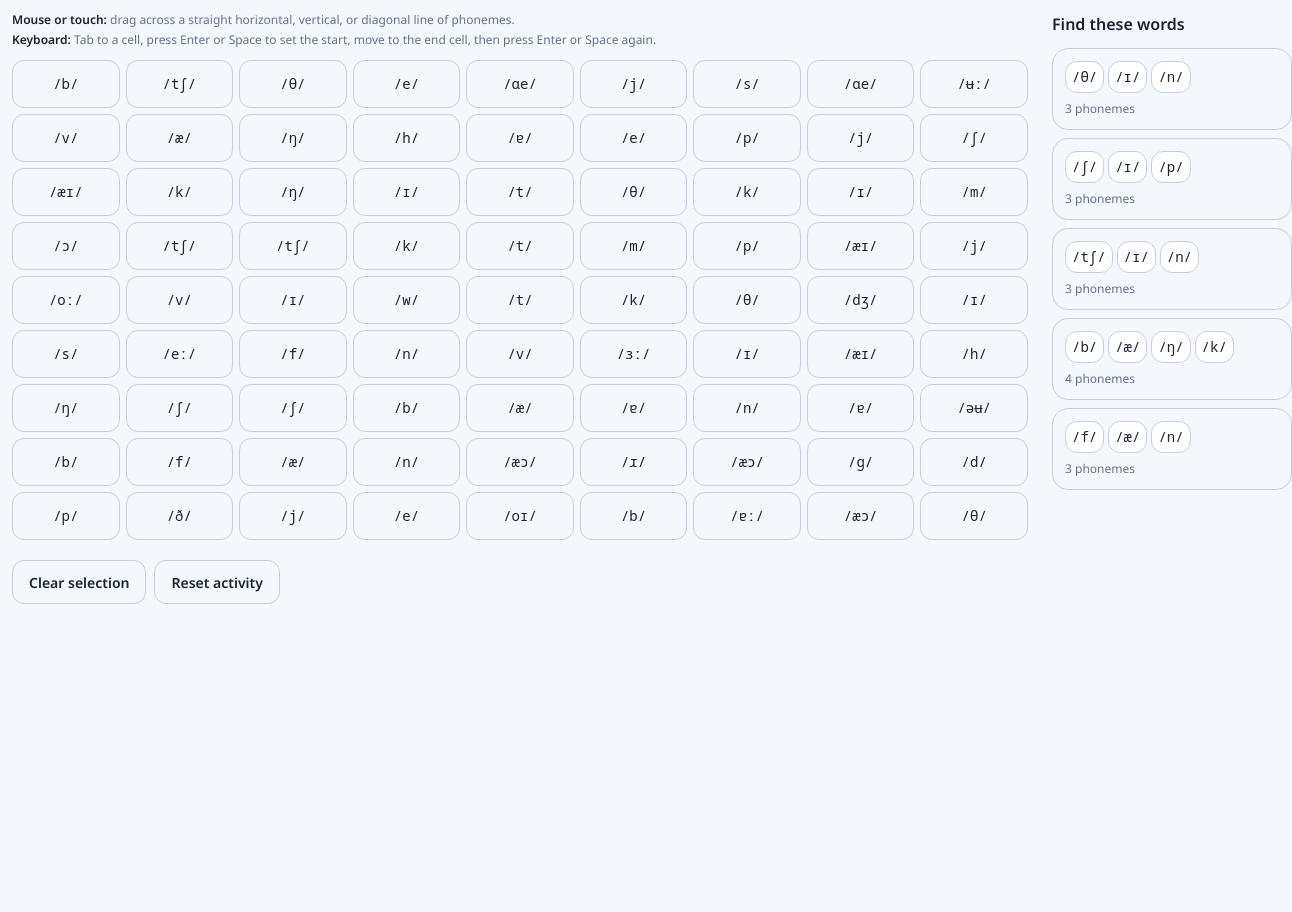
WordSearchGame › supports keyboard start and end selection for matches
The image size is (1292, 912).
Click the 1st button "/b/": x=66, y=84 [12,60,120,108]
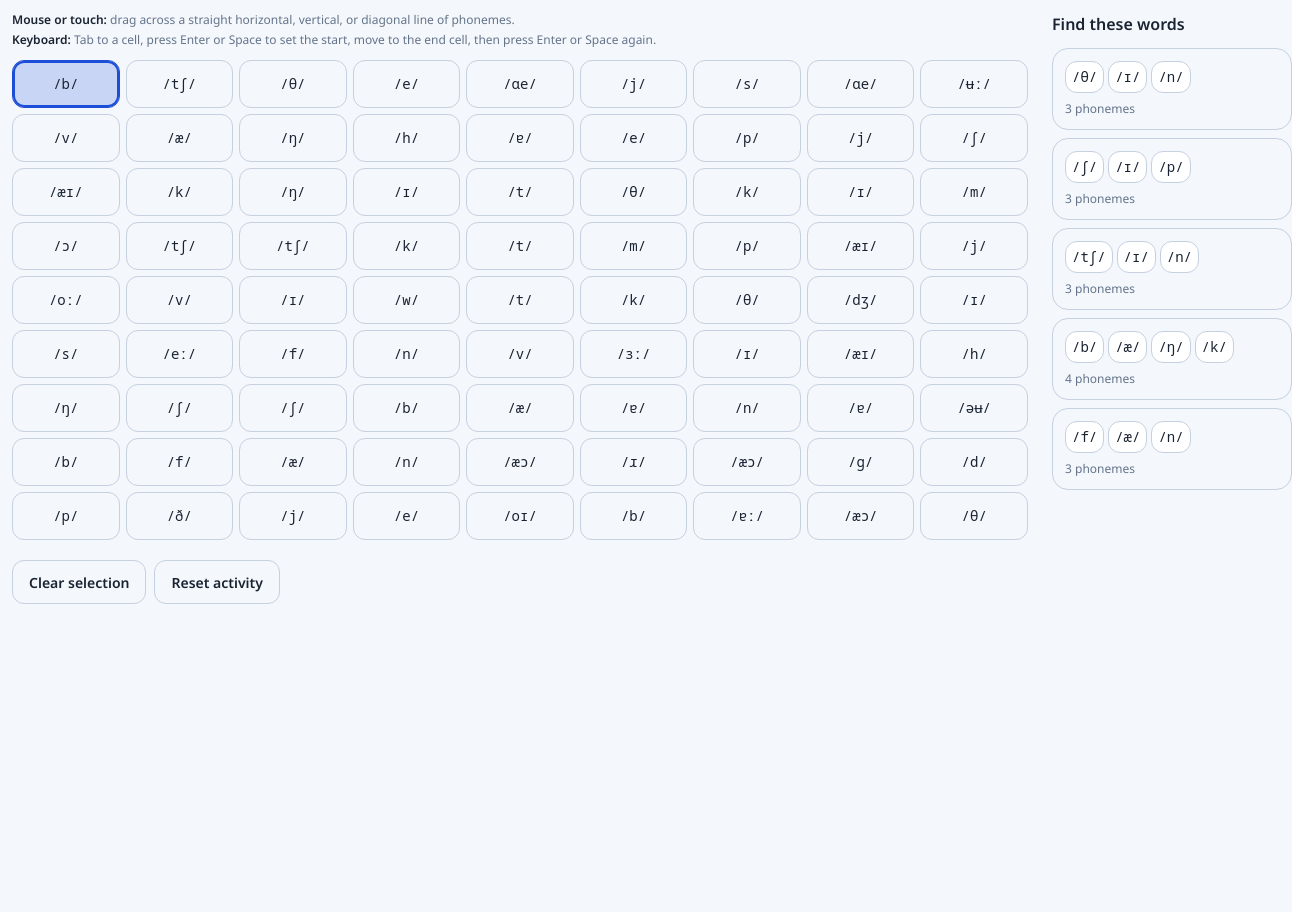
Click the 3rd button "/k/": x=406, y=246 [353,222,460,270]
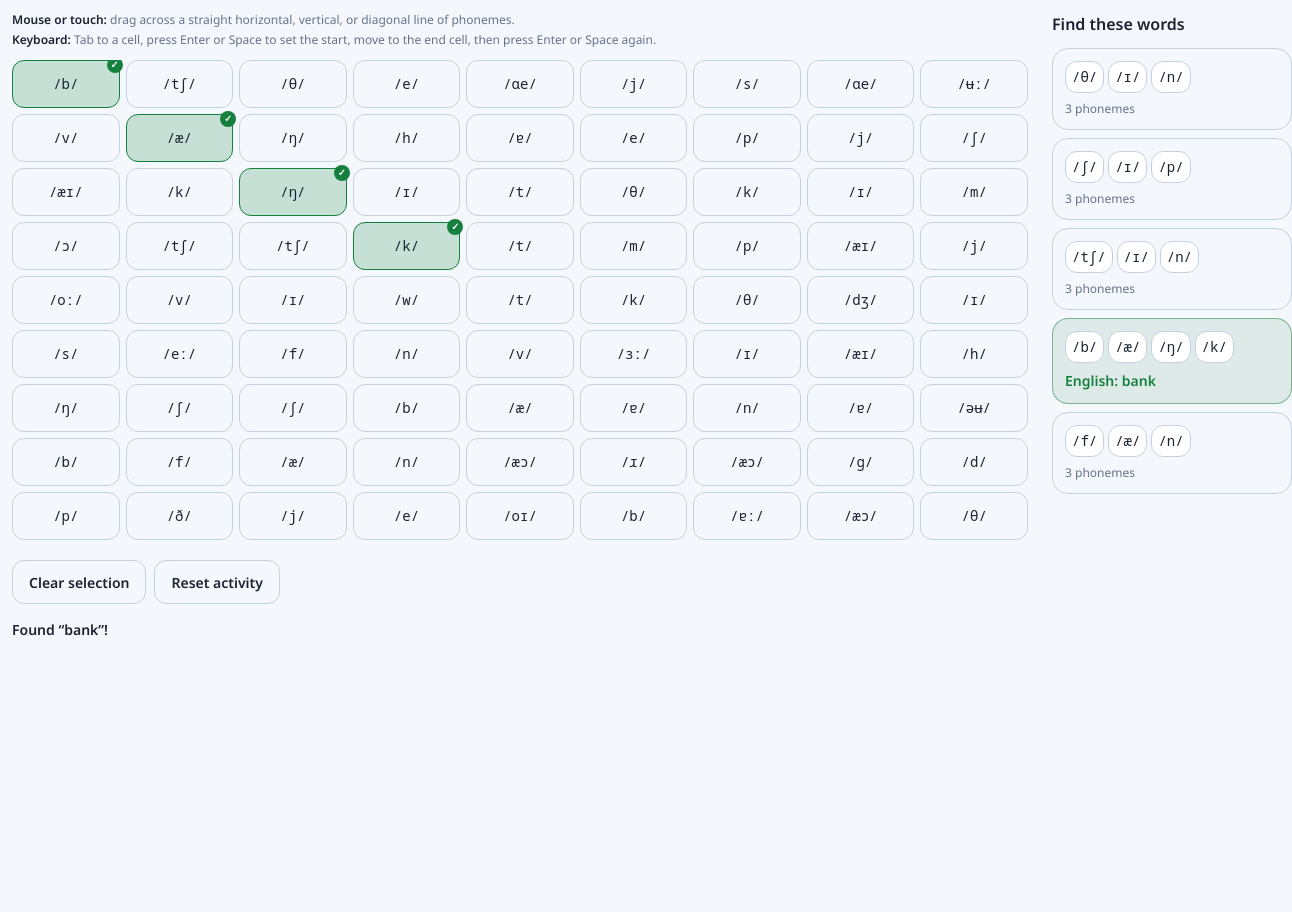
Result: the message shows "bank" at [12,620,108,639]
